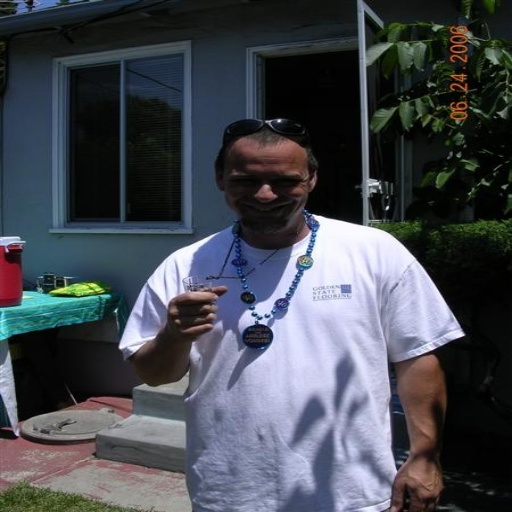hand: (163, 286, 229, 341), (389, 448, 444, 510)
